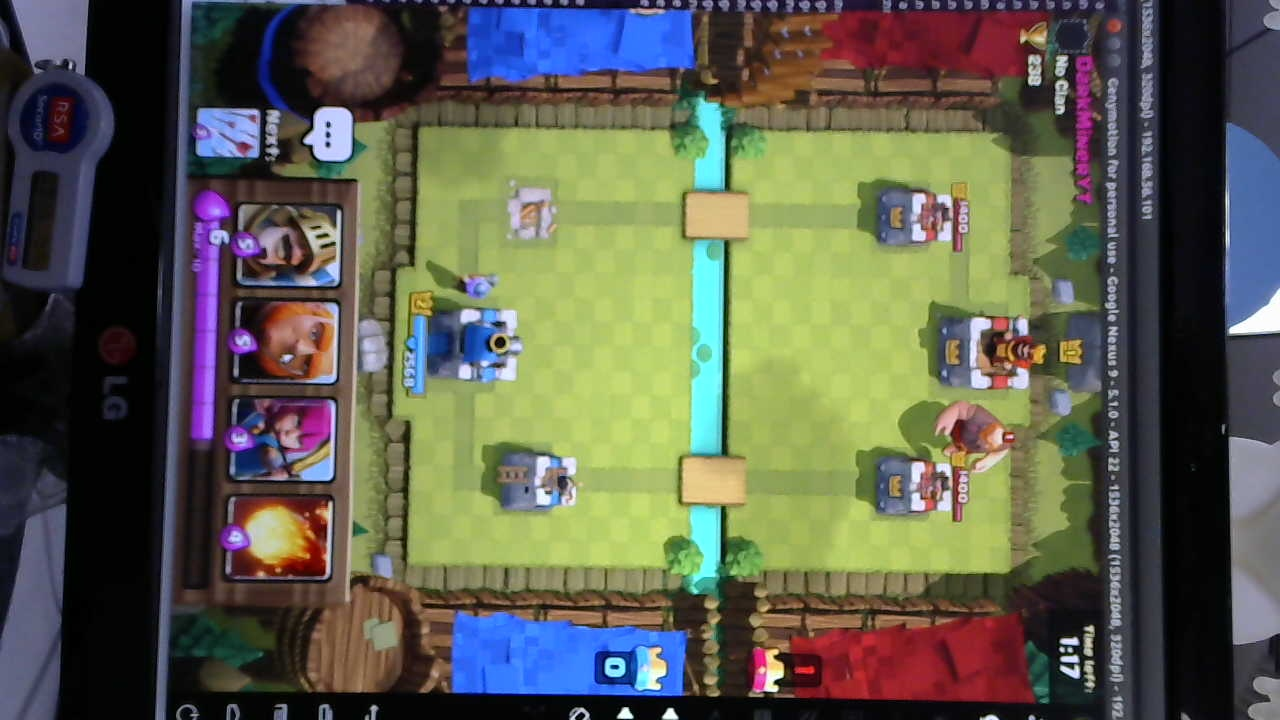arena: (500, 449, 578, 512)
darena: (502, 180, 564, 248)
earena: (868, 186, 955, 249), (869, 456, 951, 519)
eking: (930, 309, 1044, 392)
giant: (933, 396, 1015, 474)
king: (425, 304, 516, 384)
musketeer: (451, 271, 503, 297)
